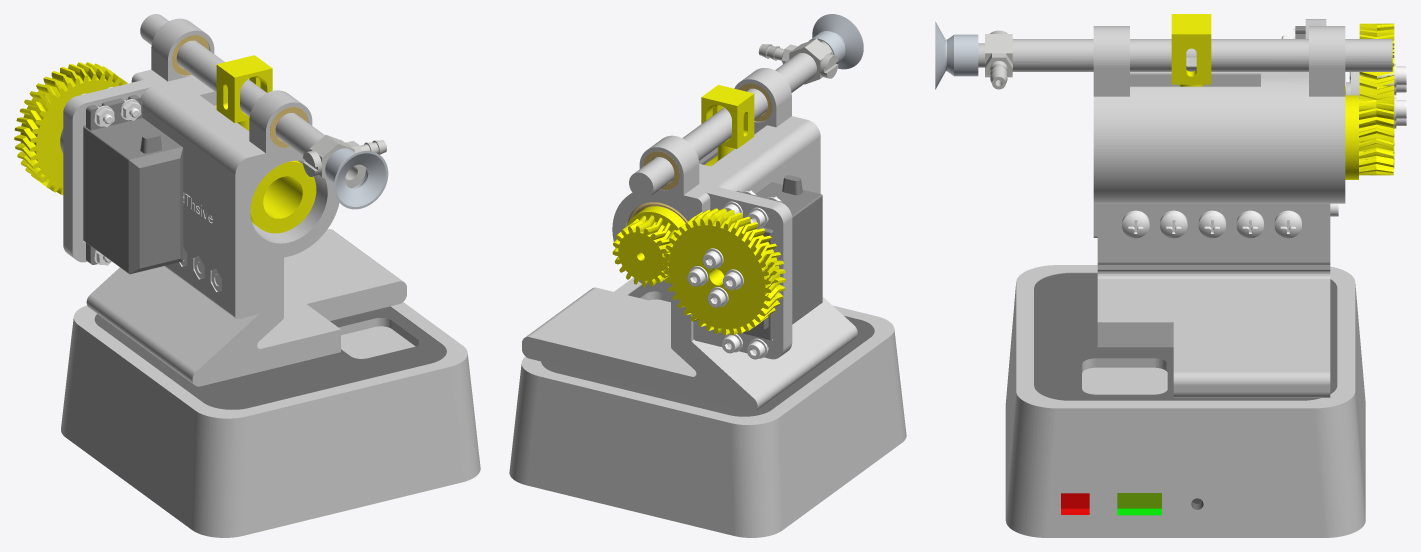
Rendered from final_assem_tsm.glb.
3 renders of one model, left to right at view 1: azimuth 30°, elevation 25°; view 2: azimuth 150°, elevation 25°; view 3: azimuth 270°, elevation 25°, orthographic. The views are drawn at different scales.
Visible parts, largest first — view 1: Node3, Node11, Node5, Node2, Node1, Node15, Node13, Node14, Node16, Node4; view 2: Node3, Node2, Node1, Node11, Node5, Node16, Node15, Node13, Node14, Node4; view 3: Node3, Node5, Node1, Node16, Node14, Node15, Node13, Node2, Node7, Node8.
Part boxes in pixels (x1,y1,x2,y2): Node3: (61, 14, 480, 537); Node11: (83, 95, 183, 274); Node5: (94, 306, 446, 409); Node2: (14, 68, 127, 194); Node1: (51, 62, 316, 233); Node15: (325, 148, 388, 209); Node13: (60, 128, 386, 188); Node14: (217, 55, 272, 122); Node16: (81, 87, 221, 291); Node4: (172, 35, 307, 147); Node3: (509, 53, 906, 537); Node2: (663, 208, 785, 335); Node1: (612, 94, 754, 333); Node11: (736, 175, 822, 340); Node5: (541, 285, 874, 416); Node16: (687, 190, 781, 359); Node15: (808, 14, 863, 69); Node13: (758, 38, 838, 84); Node14: (701, 85, 753, 148); Node4: (627, 83, 772, 223); Node3: (1005, 19, 1392, 537); Node5: (1034, 273, 1337, 509); Node1: (1179, 24, 1394, 179); Node16: (1122, 28, 1406, 238); Node14: (1171, 14, 1211, 84); Node15: (935, 21, 978, 89); Node13: (978, 30, 1359, 99); Node2: (1359, 23, 1394, 128); Node7: (1117, 493, 1161, 508); Node8: (1061, 493, 1089, 514).
Size of the model in its own units: 111 by 139 by 136.
